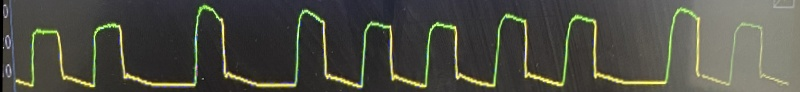normal_pressure: (25, 1, 787, 92)
